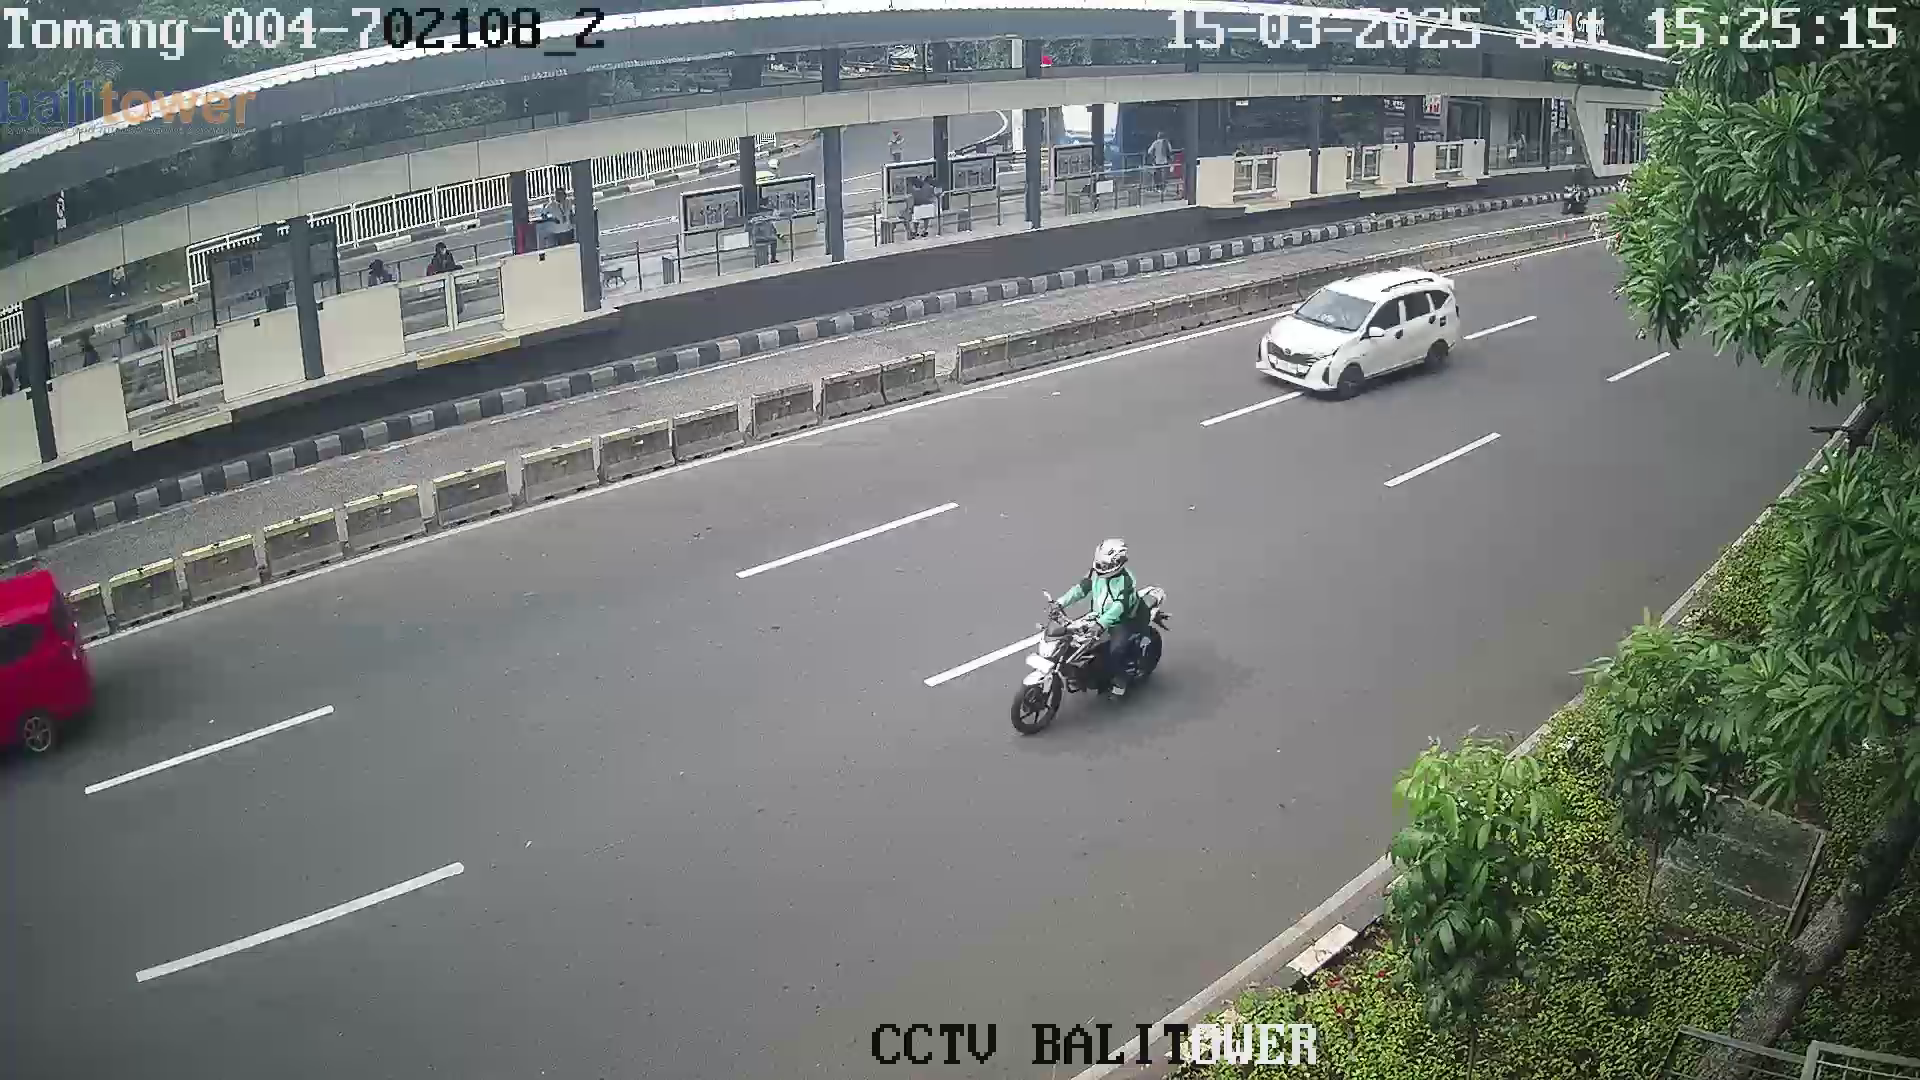full-face helmet: (1084, 537, 1133, 582)
